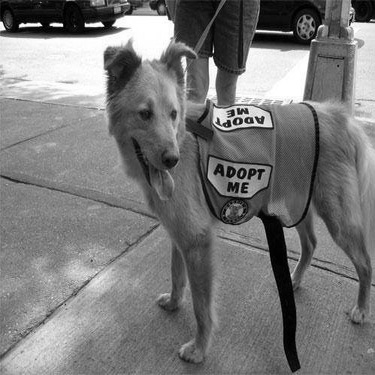dog: (93, 27, 370, 370)
